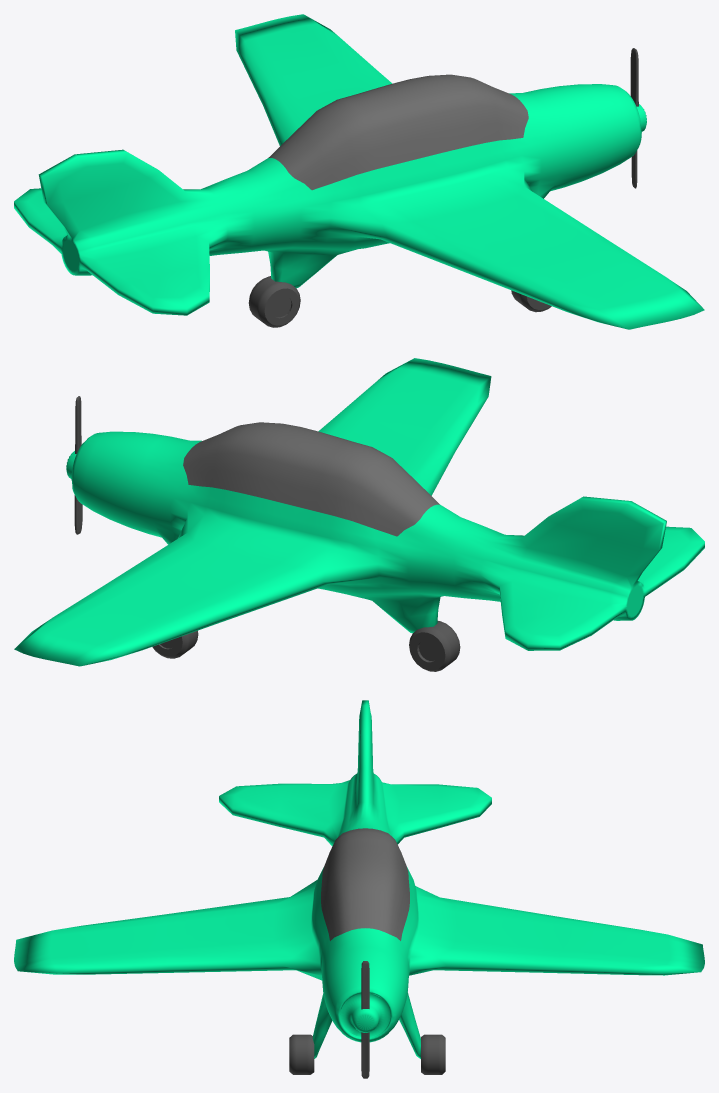
The model's file is avion.fbx.
3 views of the same model, one above another, from view 1: azimuth 30°, elevation 25°; view 2: azimuth 150°, elevation 25°; view 3: azimuth 270°, elevation 25° (orthographic). The views are drawn at different scales.
Visible parts, largest first — view 1: polySurface1, polySurface2, pCylinder4, elice; view 2: polySurface1, polySurface2, pCylinder4, pCylinder2, elice; view 3: polySurface1, polySurface2, pCylinder3, pCylinder2, elice.
Boxes of the visible parts, x1,y1,x2,y2 form: polySurface1: (14, 14, 704, 329); polySurface2: (268, 74, 528, 190); pCylinder4: (248, 276, 300, 327); elice: (630, 48, 638, 188); polySurface1: (14, 358, 704, 666); polySurface2: (183, 422, 439, 536); pCylinder4: (409, 621, 460, 671); pCylinder2: (152, 630, 198, 658); elice: (74, 396, 82, 534); polySurface1: (14, 700, 704, 1058); polySurface2: (321, 828, 409, 940); pCylinder3: (289, 1034, 314, 1074); pCylinder2: (421, 1034, 445, 1074); elice: (361, 961, 369, 1078).
Size of the model in its own units: 3.75 by 1.36 by 4.41.
